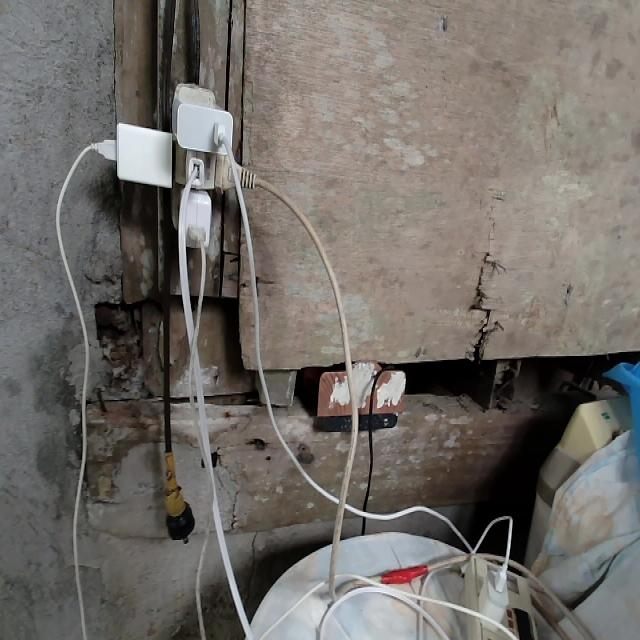-: (87, 80, 246, 253)
